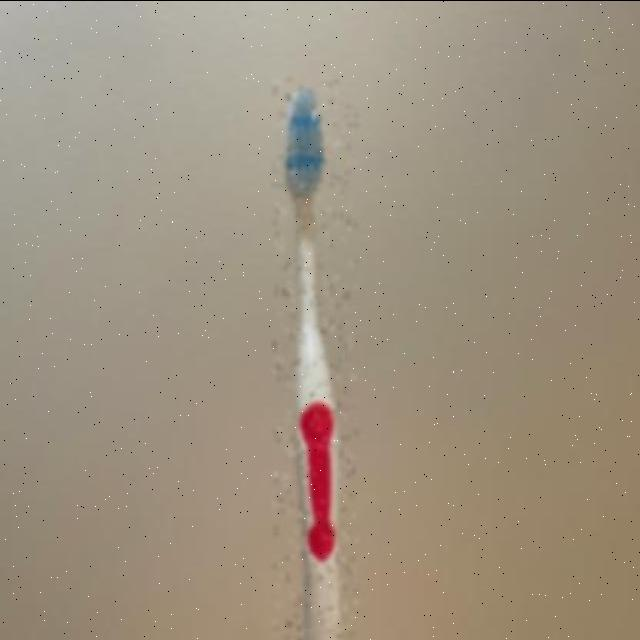toothbrush: (274, 78, 356, 640)
